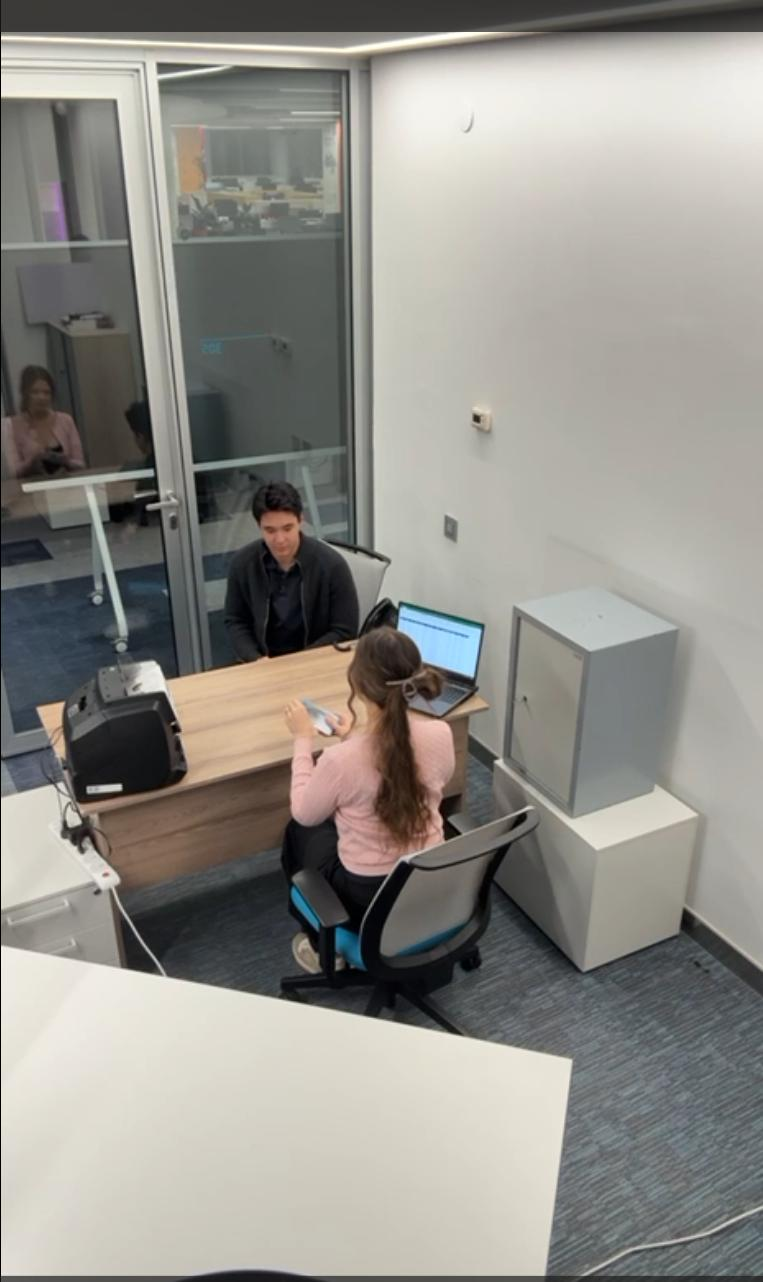cash_stack: (293, 696, 341, 742)
counter: (61, 661, 189, 804)
